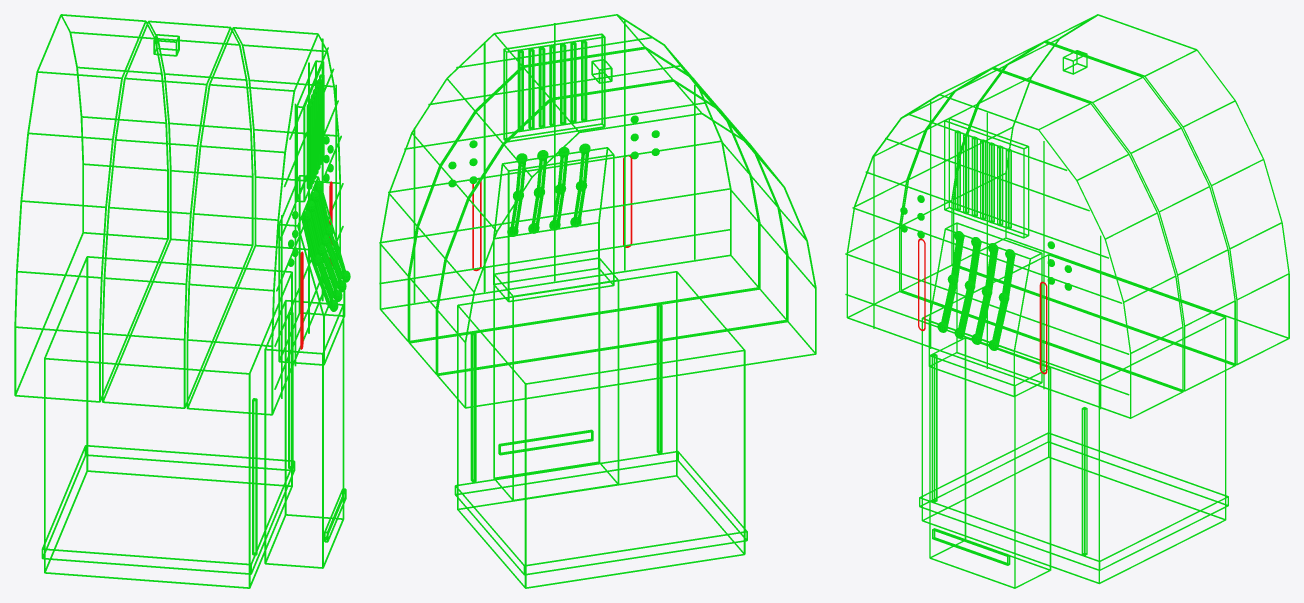
The model's file is improved-sensors-highlight-shielding-coils.glb.
The picture shows the model from 3 angles, left to right: view 1: azimuth 30°, elevation 25°; view 2: azimuth 150°, elevation 25°; view 3: azimuth 270°, elevation 25°; orthographic projection. The views are drawn at different scales.
Visible parts, largest first — view 1: chassis technical wire, data-collector technical wire, calibration-indicators technical wire, shielding-coils technical wire; view 2: chassis technical wire, data-collector technical wire, calibration-indicators technical wire, shielding-coils technical wire; view 3: chassis technical wire, data-collector technical wire, calibration-indicators technical wire, shielding-coils technical wire.
Part boxes in pixels (x1,y1,x2,y2): chassis technical wire: (14,14,343,588); data-collector technical wire: (264,175,350,568); calibration-indicators technical wire: (288,60,333,266); shielding-coils technical wire: (300,181,332,349); chassis technical wire: (379,14,816,588); data-collector technical wire: (493,143,619,500); calibration-indicators technical wire: (448,33,659,187); shielding-coils technical wire: (472,156,632,271); chassis technical wire: (845,14,1289,584); data-collector technical wire: (928,222,1051,588); calibration-indicators technical wire: (900,117,1071,290); shielding-coils technical wire: (918,238,1047,374).
Bounding box in the file's own units: 2.41 × 2.88 × 2.49.
